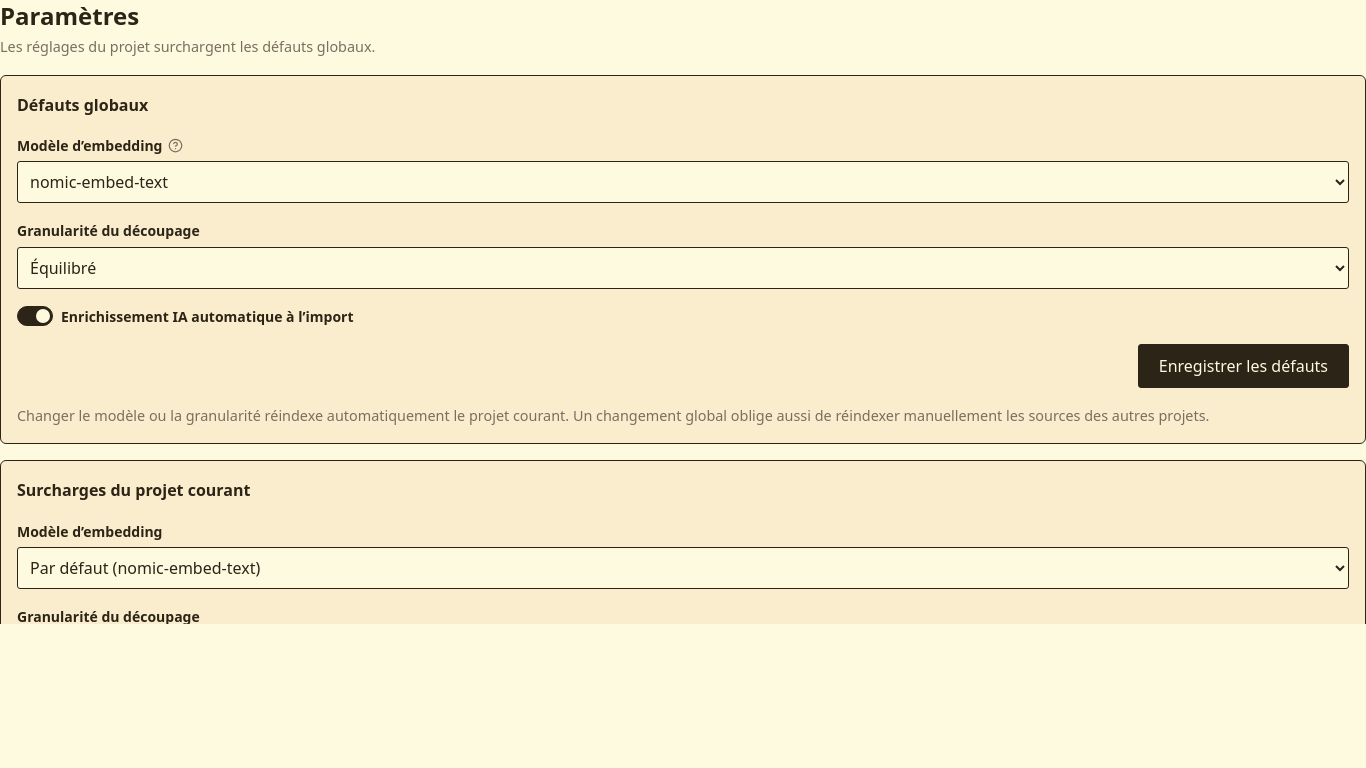
Test case: SettingsView › reveals the `ollama pull` model guide when the help button is clicked
Expected: the heading "Défauts globaux" is shown, [17,94,148,116]
Expected: the text "ollama pull bge-m3" is not shown
What coordinates should you click on to do the following:
click the button named "ajouter un modèle d’embedding"
I would click on:
 (176, 146)
Its box is [166,137,184,155].
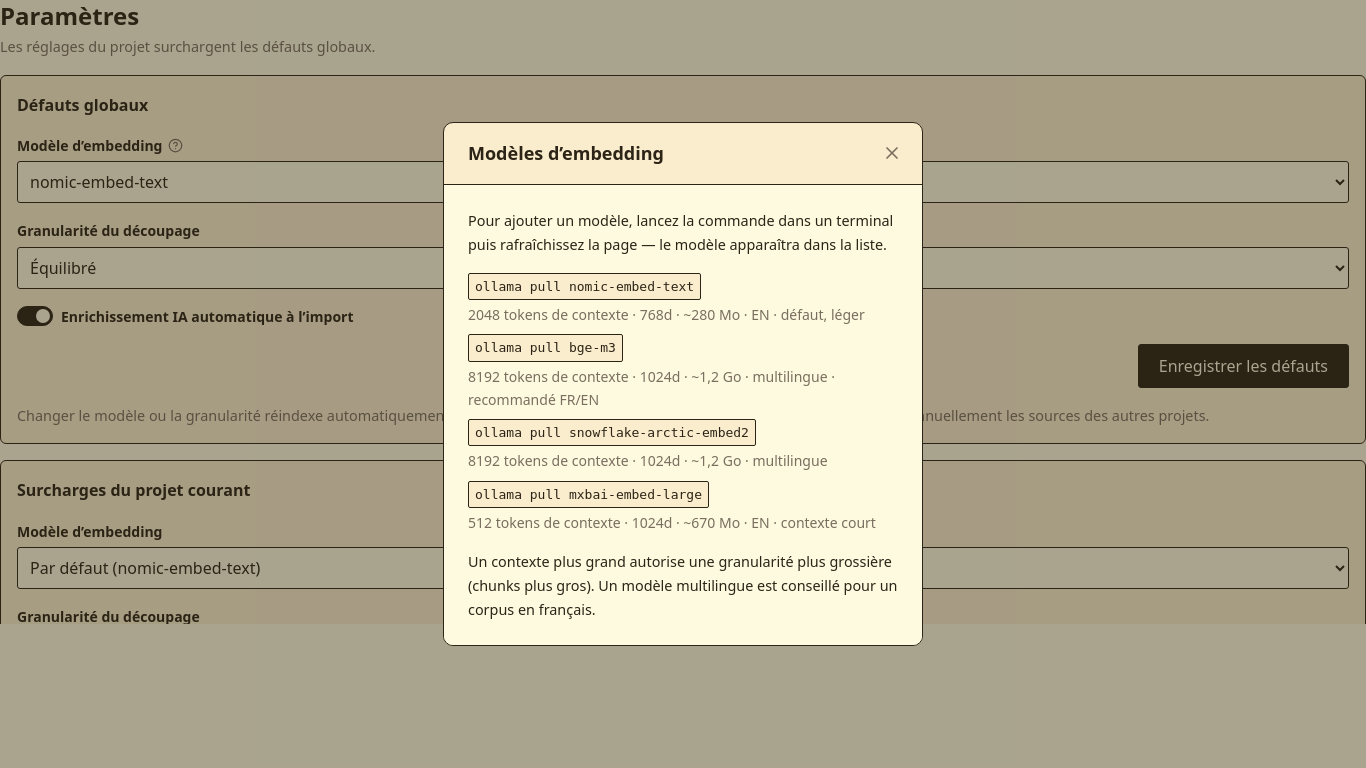
Now the text "ollama pull bge-m3" is shown, box [468,334,623,362]
Now the text "ollama pull nomic-embed-text" is shown, box [468,273,701,300]
